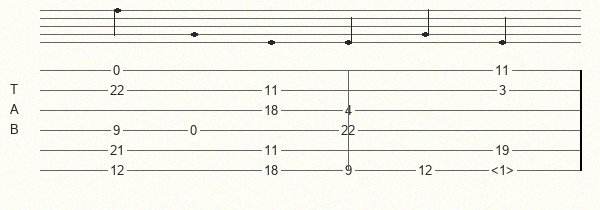0: (113, 63, 124, 77), (190, 123, 201, 137)
11: (264, 83, 282, 97), (264, 143, 282, 157), (495, 63, 513, 77)
12: (110, 163, 128, 177), (418, 163, 436, 177)
18: (264, 103, 282, 117), (264, 163, 282, 177)
19: (495, 143, 513, 157)
21: (110, 143, 128, 157)
22: (110, 83, 128, 97), (341, 123, 359, 137)
3: (499, 83, 510, 97)
4: (345, 103, 356, 117)
9: (113, 123, 124, 137), (345, 163, 356, 177)
harmonic: (491, 163, 518, 177)
